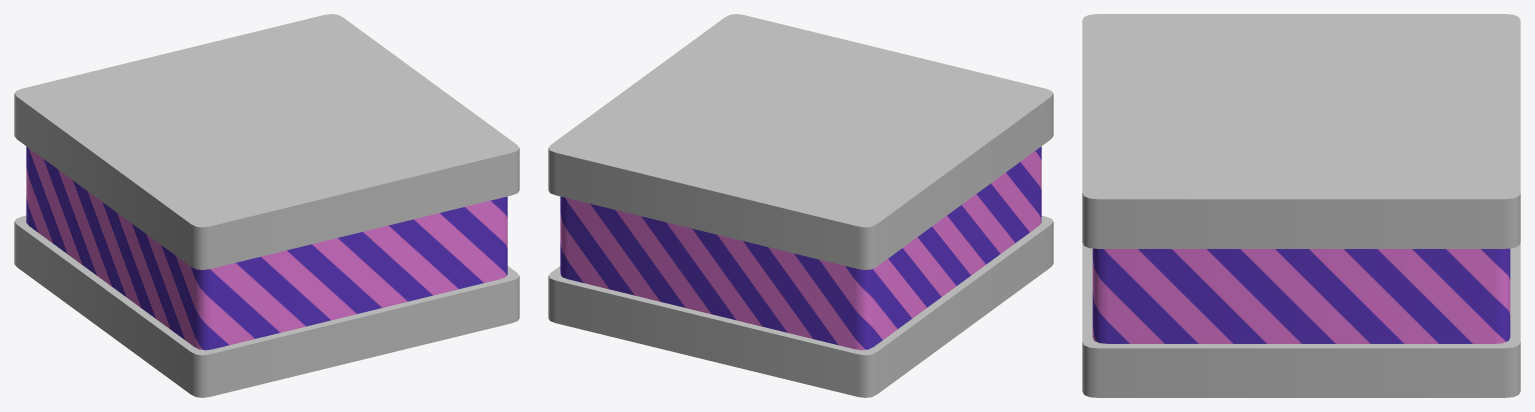
Rendered from BLUE_Cube_move.fbx.
3 renders of one model, left to right at view 1: azimuth 30°, elevation 25°; view 2: azimuth 150°, elevation 25°; view 3: azimuth 270°, elevation 25°, orthographic. The views are drawn at different scales.
Visible parts, largest first — view 1: BLUE_Cube_move, RotateMesh; view 2: BLUE_Cube_move, RotateMesh; view 3: BLUE_Cube_move, RotateMesh.
Part boxes in pixels (box(x1,y1,x2,y2)): BLUE_Cube_move: box(14, 14, 519, 397); RotateMesh: box(26, 146, 507, 350); BLUE_Cube_move: box(548, 14, 1053, 397); RotateMesh: box(560, 146, 1041, 350); BLUE_Cube_move: box(1082, 14, 1520, 397); RotateMesh: box(1092, 248, 1510, 343).
Bounding box in the file's own units: 53.76 × 26.88 × 53.76.
